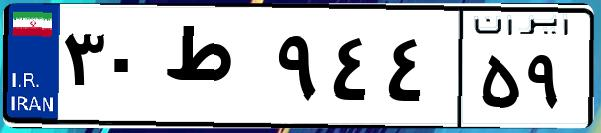0: (110, 28, 158, 98)
3: (57, 26, 110, 100)
4: (385, 28, 445, 110), (330, 28, 385, 110)
5: (475, 38, 525, 113)
9: (270, 28, 330, 110), (525, 38, 570, 115)
ط: (158, 20, 270, 120)
